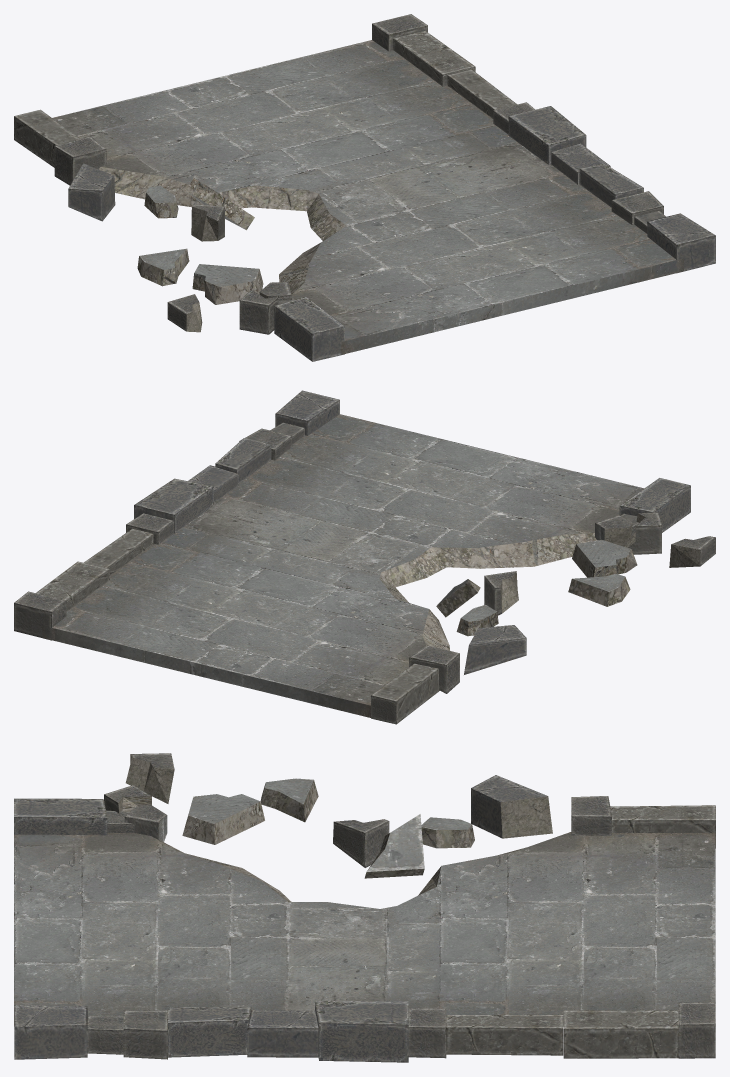
File: bg_lut_lucastle_street09_sm_phs.FBX
The picture shows the model from 3 angles, top to bottom: view 1: azimuth 30°, elevation 25°; view 2: azimuth 150°, elevation 25°; view 3: azimuth 270°, elevation 25°; orthographic projection. The views are drawn at different scales.
Visible parts, largest first — view 1: bg_lut_lucastle_street09_sm_phs; view 2: bg_lut_lucastle_street09_sm_phs; view 3: bg_lut_lucastle_street09_sm_phs.
Part boxes in pixels (left/top/right/bottom): bg_lut_lucastle_street09_sm_phs: left=14, top=14, right=715, bottom=361; bg_lut_lucastle_street09_sm_phs: left=14, top=390, right=715, bottom=724; bg_lut_lucastle_street09_sm_phs: left=14, top=753, right=715, bottom=1062.
Bounding box in the file's own units: 475 × 43.54 × 512.
